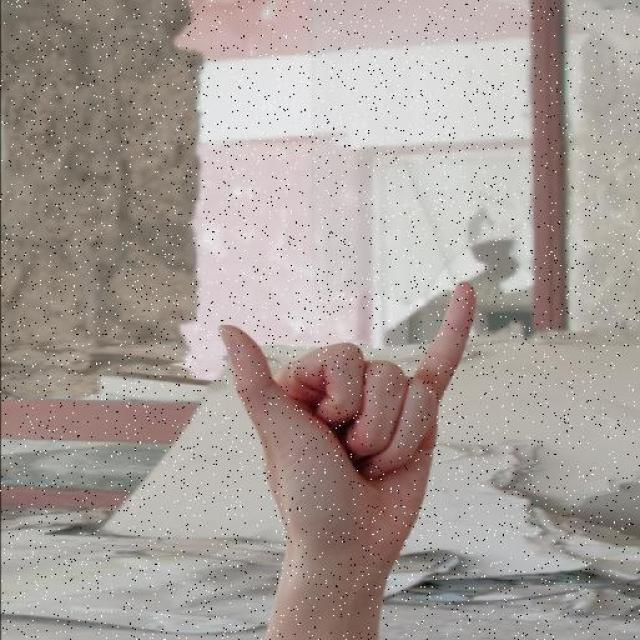Y: (213, 271, 483, 577)
